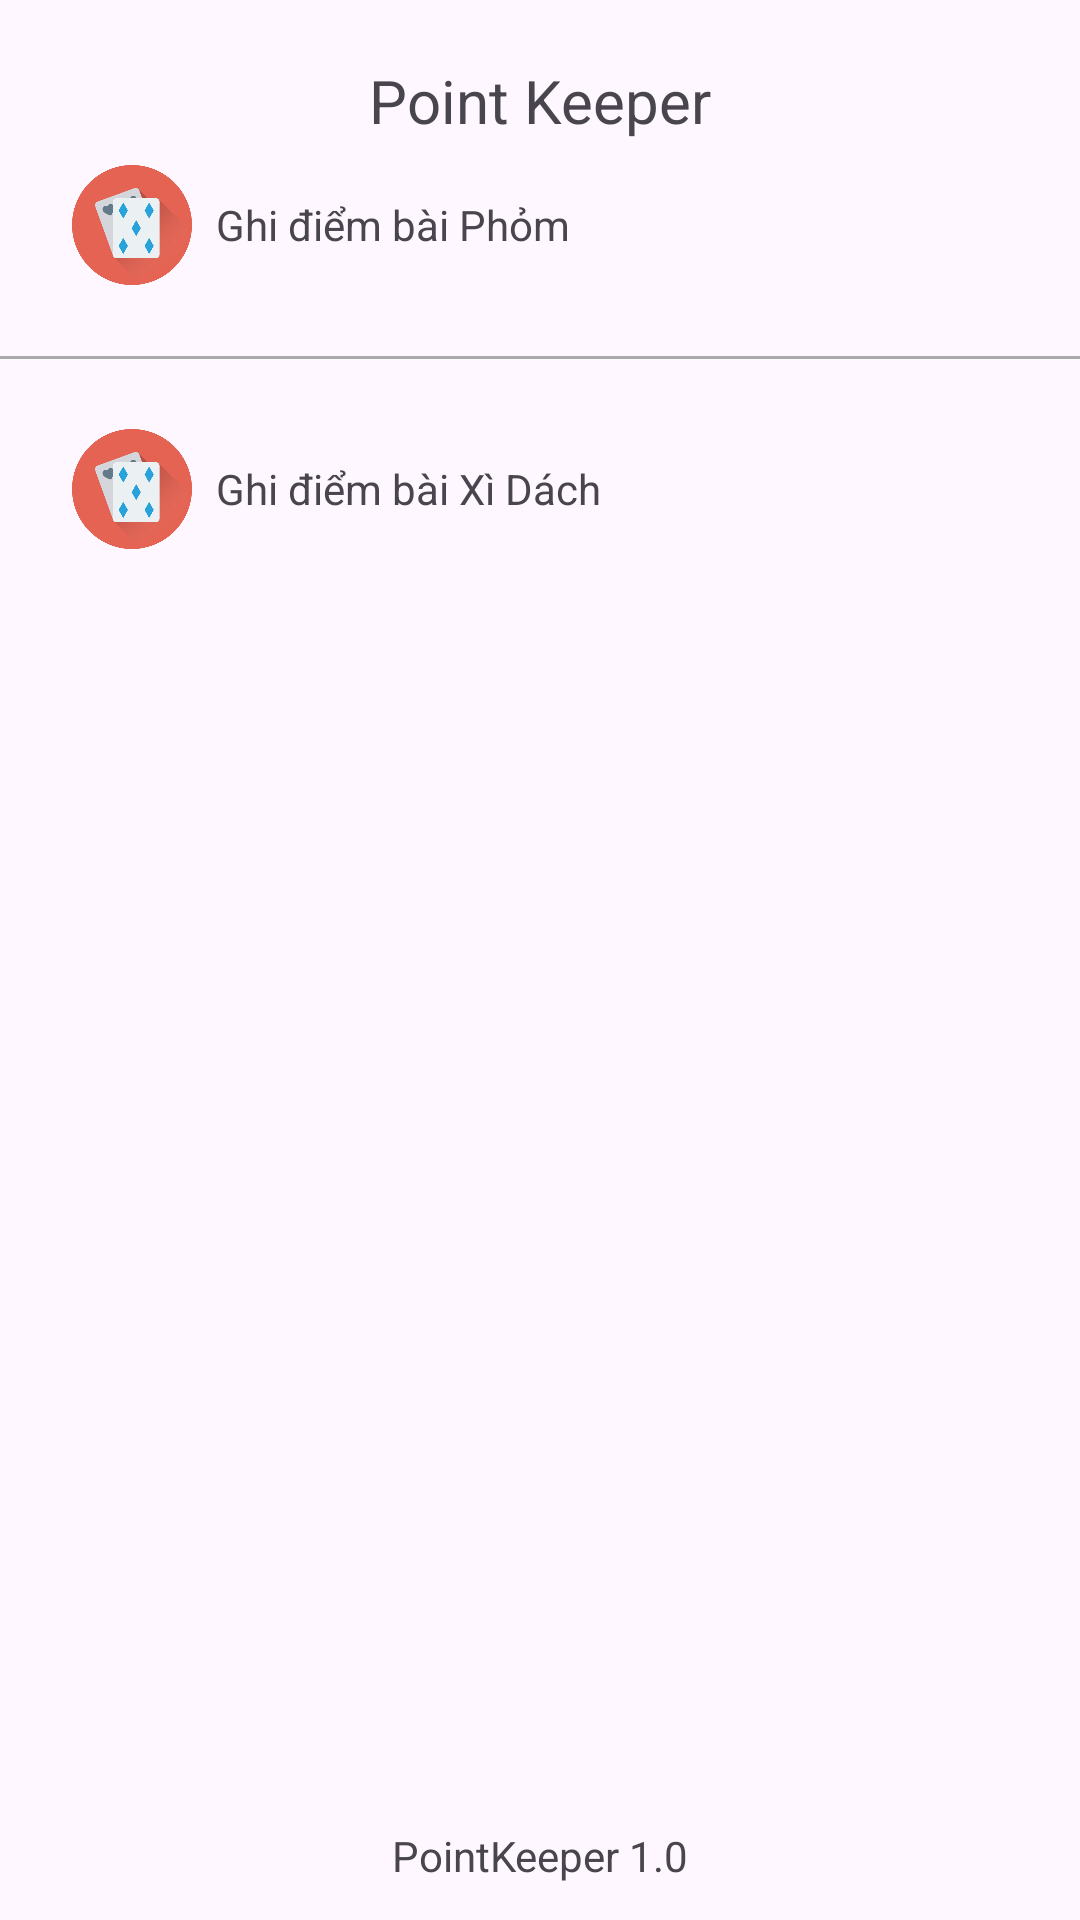

Icons on this 1080×1920 Android screen, each with its box as detection(x1, y1, x2, y2):
game card: detection(72, 165, 192, 285), detection(72, 429, 192, 549)
